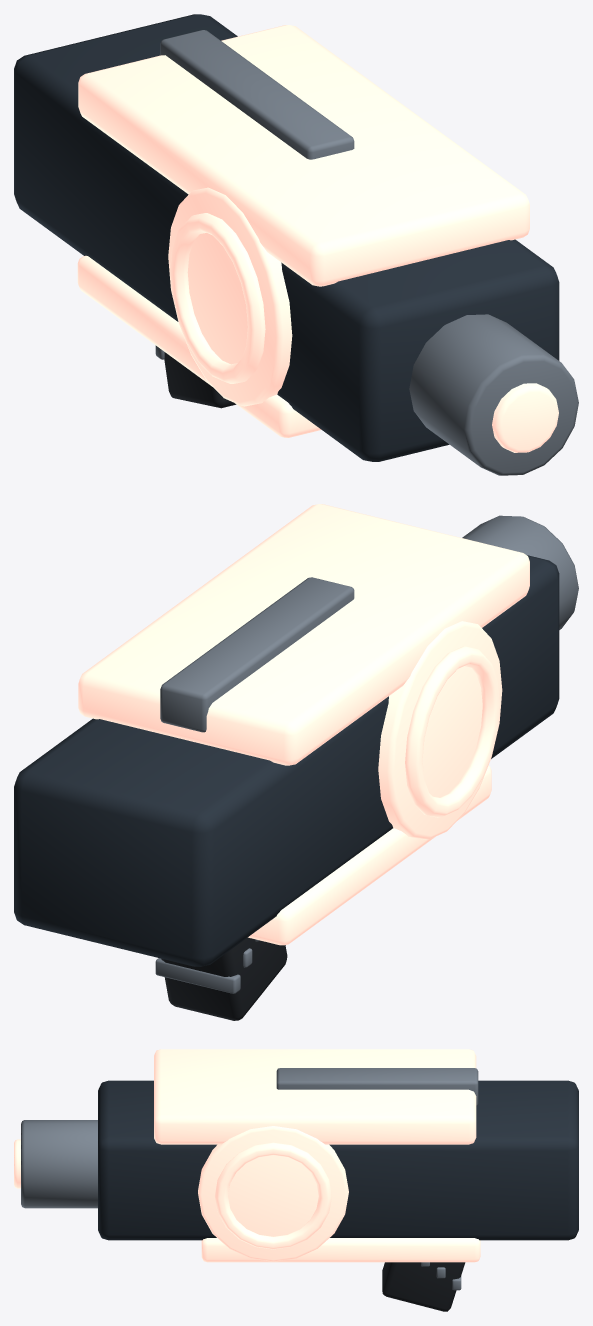
File: Brute_BruteSpinfusor.fbx
3 views of the same model, one above another, from view 1: azimuth 30°, elevation 25°; view 2: azimuth 150°, elevation 25°; view 3: azimuth 270°, elevation 25° (orthographic). The views are drawn at different scales.
Parts seen in each view (by area): view 1: Receiver.014, UpperArmor.007, Muzzle.007, EnergyChamber.007, TopRail.014, EnergyRingLeft.007, LowerArmor.007, MuzzleGlow.007, Grip.014; view 2: Receiver.014, UpperArmor.007, EnergyChamber.007, TopRail.014, EnergyRingLeft.007, LowerArmor.007, Grip.014, Muzzle.007, GripRib_03.014; view 3: Receiver.014, UpperArmor.007, EnergyChamber.007, Muzzle.007, LowerArmor.007, TopRail.014, EnergyRingRight.007, Grip.014.
Part boxes in pixels (box(x1,y1,x2,y2)): Receiver.014: box(14, 14, 559, 461); UpperArmor.007: box(78, 25, 529, 286); Muzzle.007: box(409, 314, 578, 475); EnergyChamber.007: box(168, 187, 292, 406); TopRail.014: box(160, 30, 354, 159); EnergyRingLeft.007: box(170, 213, 265, 383); LowerArmor.007: box(77, 255, 321, 437); MuzzleGlow.007: box(492, 383, 558, 452); Grip.014: box(164, 352, 236, 408); Receiver.014: box(14, 555, 559, 966); UpperArmor.007: box(78, 504, 529, 765); EnergyChamber.007: box(378, 621, 502, 839); TopRail.014: box(160, 577, 354, 732); EnergyRingLeft.007: box(405, 646, 500, 817); LowerArmor.007: box(248, 765, 491, 945); Grip.014: box(161, 937, 287, 1020); Muzzle.007: box(462, 515, 578, 629); GripRib_03.014: box(155, 958, 240, 993); Receiver.014: box(98, 1080, 578, 1240); UpperArmor.007: box(154, 1049, 476, 1144); EnergyChamber.007: box(198, 1126, 348, 1261); Muzzle.007: box(21, 1120, 97, 1208); LowerArmor.007: box(201, 1238, 480, 1262); TopRail.014: box(276, 1068, 478, 1106); EnergyRingRight.007: box(214, 1142, 331, 1249); Grip.014: box(382, 1262, 465, 1311).
Size of the model in its own units: 148 by 193 by 435.
